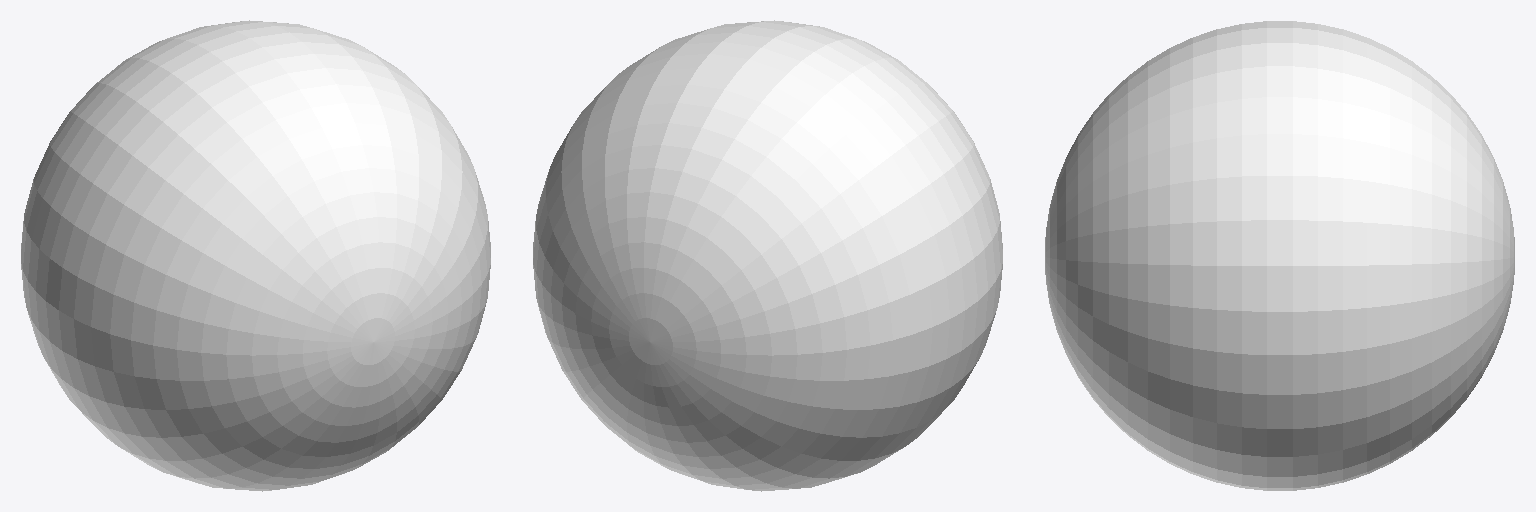
robot.urdf — urdf_robot:
<?xml version="0.0" ?>
<robot name="urdf_robot">
  <link name="baseLink">
  	<contact>
      <rolling_friction value="0.001"/>
      <spinning_friction value="0.001"/>
    </contact>

    <inertial>
      <origin rpy="0 0 0" xyz="0 0 0"/>
       <mass value="1.0"/>
       <inertia ixx="1" ixy="0" ixz="0" iyy="1" iyz="0" izz="1"/>
    </inertial>
    <visual>
      <origin rpy="0 0 0" xyz="0 0 0"/>
      <geometry>
				<mesh filename="sphere.obj" scale="0.15 0.15 0.15"/>
      </geometry>
      <material name="white">
        <color rgba="1 1 1 1"/>
      </material>
    </visual>
    <collision>
      <origin rpy="0 0 0" xyz="0 0 0"/>
      <geometry>
	 <sphere radius="0.15"/>
      </geometry>
    </collision>
  </link>
</robot>

--- Facts derived from the render (not from the file) ---
The picture shows the robot from 3 angles, left to right: view 1: azimuth 30°, elevation 25°; view 2: azimuth 150°, elevation 25°; view 3: azimuth 270°, elevation 25°; orthographic projection.
Robot: urdf_robot — 1 links, 0 joints (none); root link baseLink; default pose: all joints at 0.
Visible links, largest first — view 1: baseLink; view 2: baseLink; view 3: baseLink.
Boxes of the visible links, x1,y1,x2,y2 form: baseLink: (21,20,490,491); baseLink: (533,20,1002,491); baseLink: (1045,21,1514,490).
Bounding box of the posed robot: 0.2996 × 0.3 × 0.2996 m (x, y, z).
1 mesh visuals loaded from 1 distinct referenced files (1 OBJ).